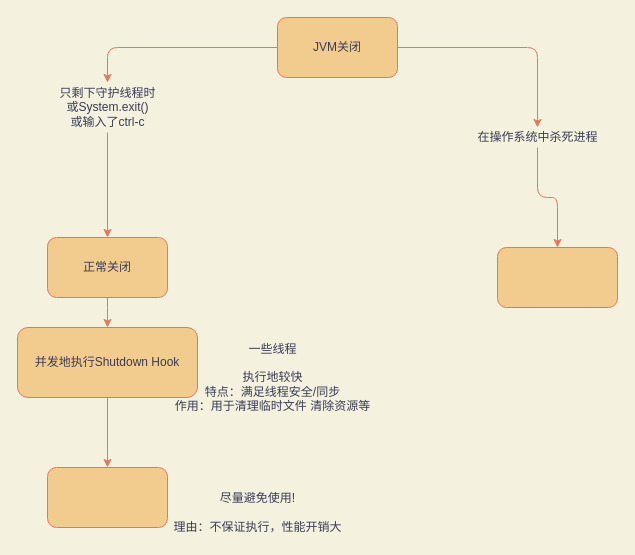
The diagram is 635 pixels wide and 555 high, and some of its shapes have lost their labels. Here are the shapes that lost their labels. From the top down, the box of each, then its label:
(496, 246, 618, 308): 异常关闭
(46, 466, 168, 528): Finalize()
